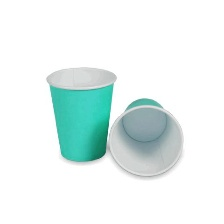paper_cup: (39, 60, 121, 166), (102, 92, 188, 181)
